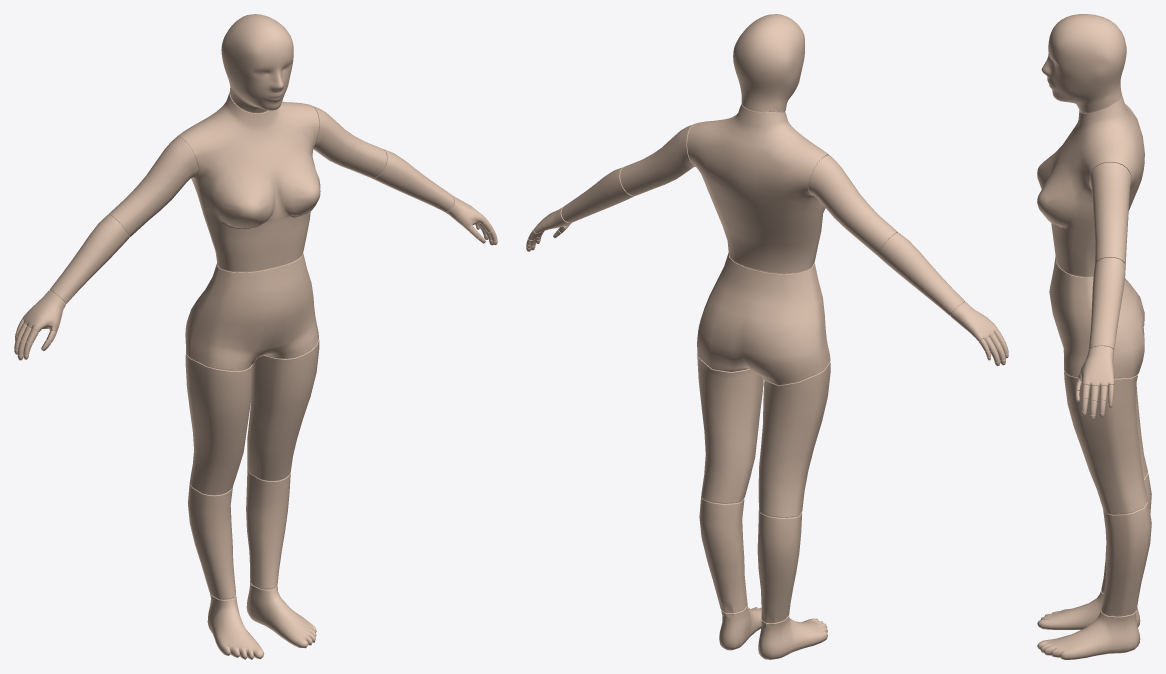
The model's file is MannequinFemaleSolid.fbx.
3 views of the same model, side by side, from view 1: azimuth 30°, elevation 25°; view 2: azimuth 150°, elevation 25°; view 3: azimuth 270°, elevation 25° (orthographic).
Visible parts, largest first — view 1: MannequinFemaleWhole1; view 2: MannequinFemaleWhole1; view 3: MannequinFemaleWhole1.
Part boxes in pixels (x1=…): MannequinFemaleWhole1: x1=14, y1=14, x2=497, y2=659; MannequinFemaleWhole1: x1=526, y1=14, x2=1008, y2=659; MannequinFemaleWhole1: x1=1037, y1=14, x2=1151, y2=659.
Size of the model in its own units: 1.38 by 1.72 by 0.2871.
